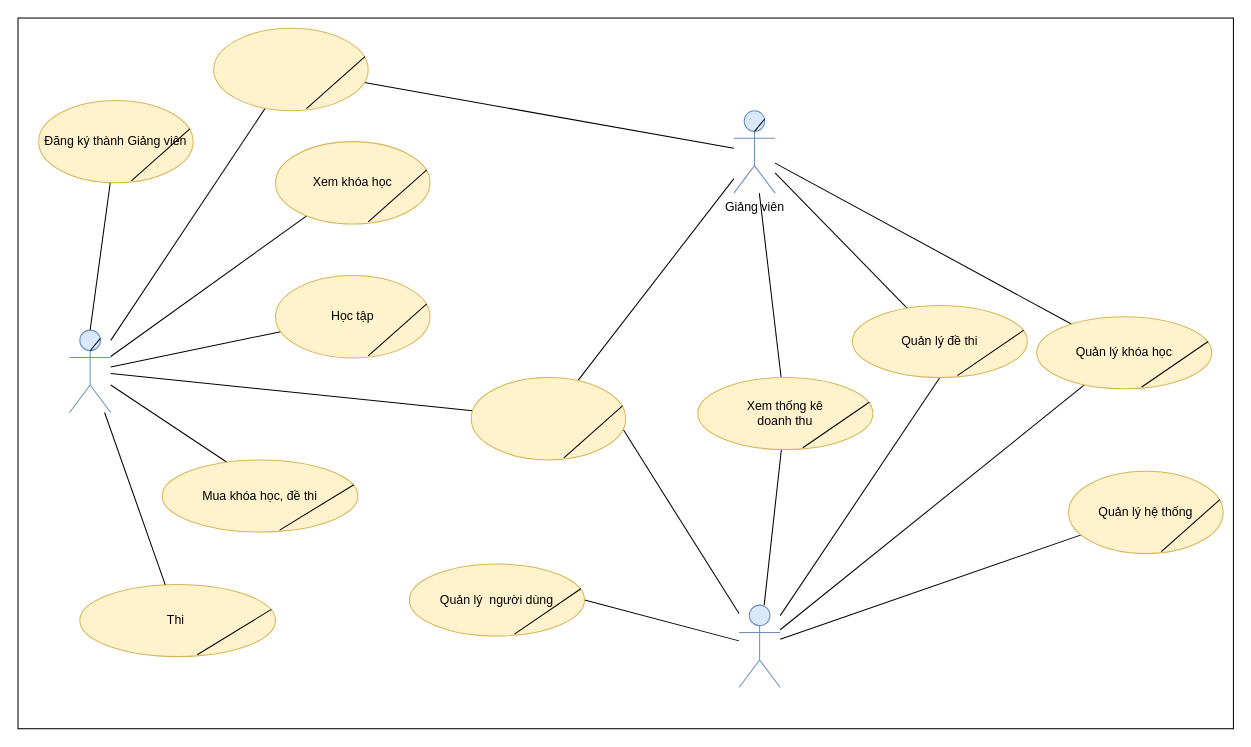
The diagram is 1251 pixels wide and 747 high, and some of its shapes have lost their labels. The centre of each missing label's shape, as x and y in pixels:
Học viên: point 89,371
Quản lý hồ sơ cá nhân: point 548,418
Quản trị viên: point 759,646
Đánh giá & Thảo luận: point 290,69
